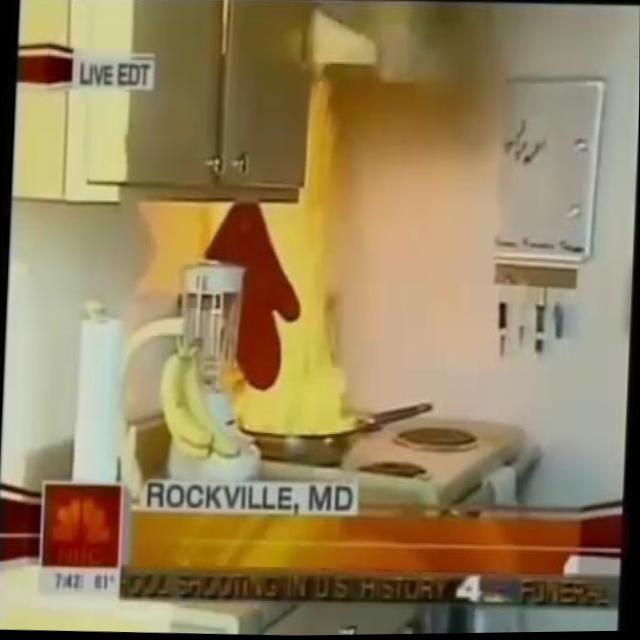fire: (195, 77, 376, 441)
